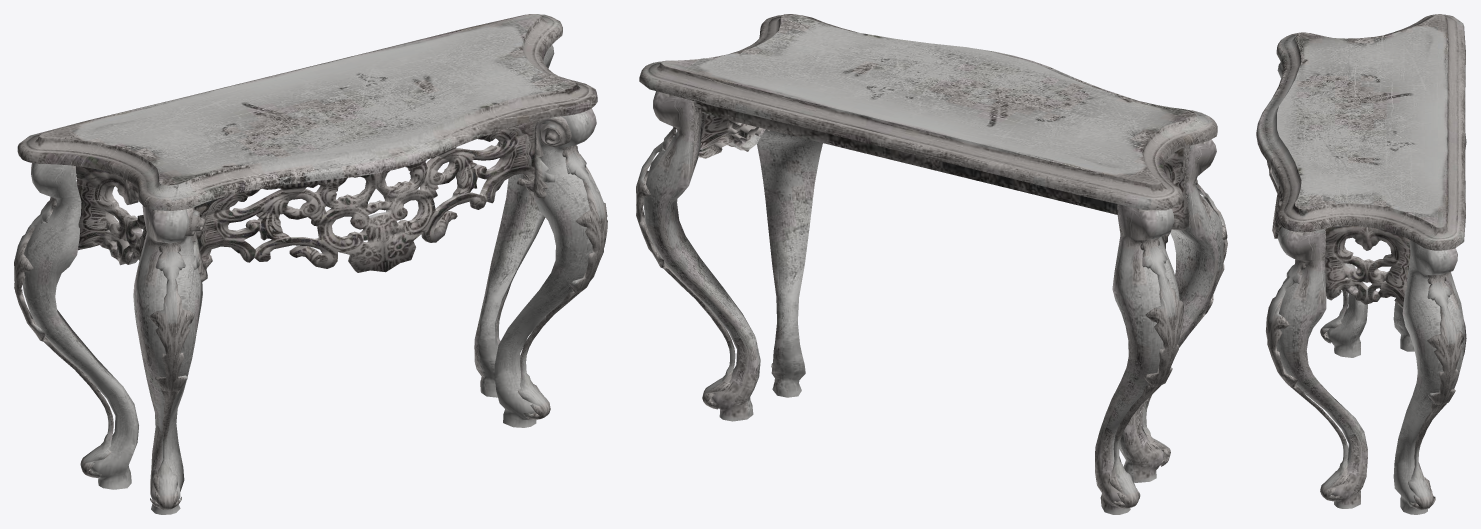
File: ClassicConsole_01_1k.glb
The picture shows the model from 3 angles, left to right: view 1: azimuth 30°, elevation 25°; view 2: azimuth 150°, elevation 25°; view 3: azimuth 270°, elevation 25°; orthographic projection. The views are drawn at different scales.
Visible parts, largest first — view 1: ClassicConsole_01; view 2: ClassicConsole_01; view 3: ClassicConsole_01.
Part boxes in pixels (left/top/right/bottom): ClassicConsole_01: left=14, top=14, right=607, bottom=514; ClassicConsole_01: left=636, top=14, right=1227, bottom=514; ClassicConsole_01: left=1256, top=14, right=1466, bottom=514.
Bounding box in the file's own units: 1.54 × 0.9491 × 0.5893.
1 material, 1 textured.
